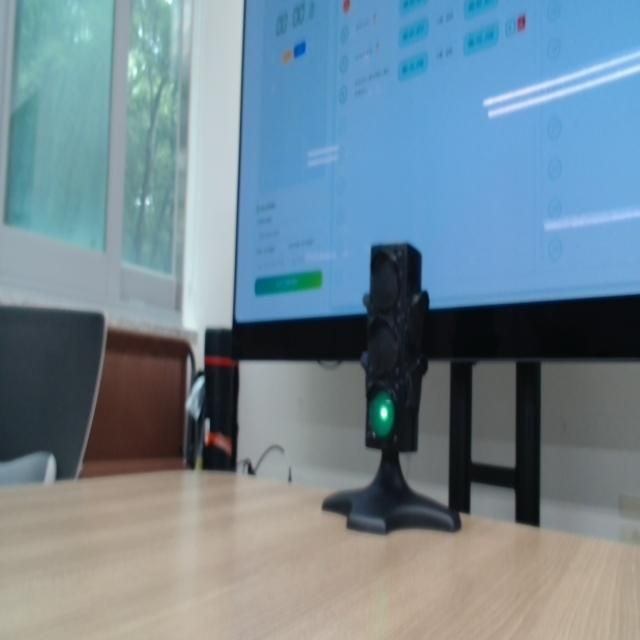green_light: (370, 392, 395, 439)
